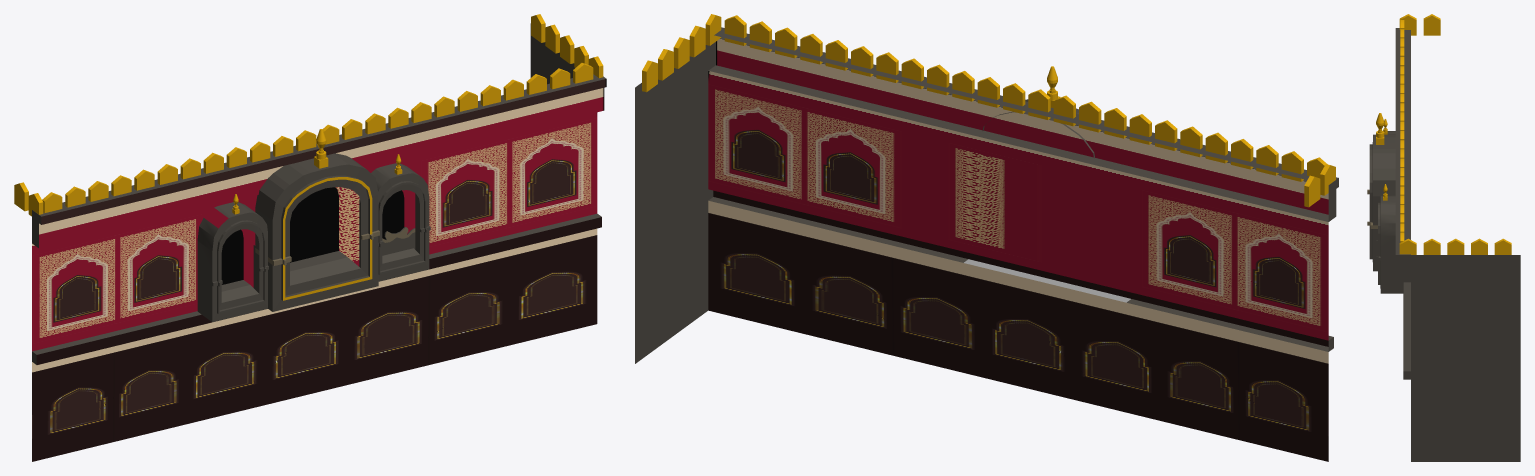
3 renders of one model, left to right at view 1: azimuth 30°, elevation 25°; view 2: azimuth 150°, elevation 25°; view 3: azimuth 270°, elevation 25°, orthographic. The views are drawn at different scales.
Visible parts, largest first — view 1: pCube9, pCube1, pCube6, pCube8, pCube7; view 2: pCube9; view 3: pCube9, pCube1, pCube8, polySurface34, polySurface28, polySurface30, polySurface26, polySurface27, polySurface35, polySurface29, pCube11.
Part boxes in pixels (left/top/right/bottom): pCube9: left=32, top=23, right=606, bottom=461; pCube1: left=255, top=153, right=379, bottom=311; pCube6: left=197, top=202, right=268, bottom=322; pCube8: left=359, top=163, right=430, bottom=281; pCube7: left=382, top=227, right=415, bottom=255; pCube9: left=635, top=27, right=1338, bottom=461; pCube9: left=1395, top=28, right=1520, bottom=461; pCube1: left=1367, top=134, right=1395, bottom=271; pCube8: left=1376, top=195, right=1403, bottom=293; polySurface34: left=1423, top=14, right=1440, bottom=35; polySurface28: left=1447, top=238, right=1464, bottom=254; polySurface30: left=1494, top=238, right=1511, bottom=254; polySurface26: left=1399, top=238, right=1416, bottom=254; polySurface27: left=1423, top=239, right=1440, bottom=254; polySurface35: left=1399, top=14, right=1416, bottom=35; polySurface29: left=1471, top=238, right=1487, bottom=254; pCube11: left=1376, top=113, right=1384, bottom=144.
Size of the model in its own units: 7.97 by 3.78 by 2.28.
Materials: 7 (2 with a texture image).
